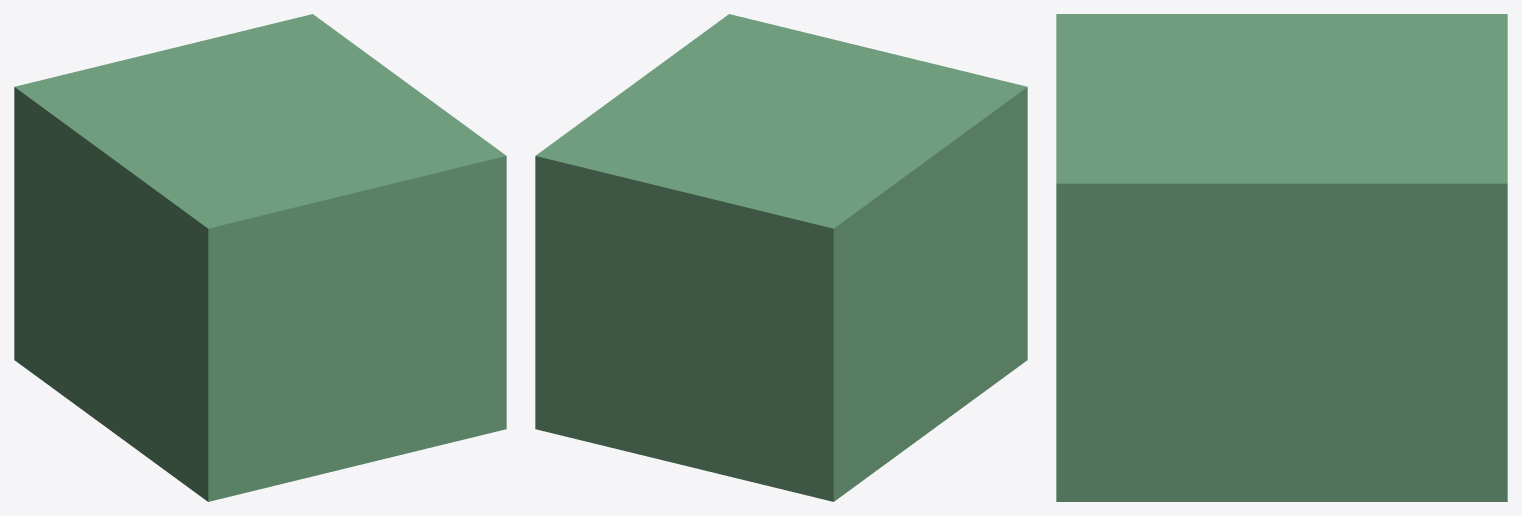
The model's file is irrigation_sluice.glb.
The picture shows the model from 3 angles, left to right: view 1: azimuth 30°, elevation 25°; view 2: azimuth 150°, elevation 25°; view 3: azimuth 270°, elevation 25°; orthographic projection. The views are drawn at different scales.
Visible parts, largest first — view 1: PumpBody_Node; view 2: PumpBody_Node; view 3: PumpBody_Node.
Boxes of the visible parts, box(x1,y1,x2,y2) form: PumpBody_Node: box(14, 14, 506, 501); PumpBody_Node: box(535, 14, 1027, 501); PumpBody_Node: box(1056, 14, 1507, 501).
Bounding box in the file's own units: 0.8 × 0.7 × 0.9.
